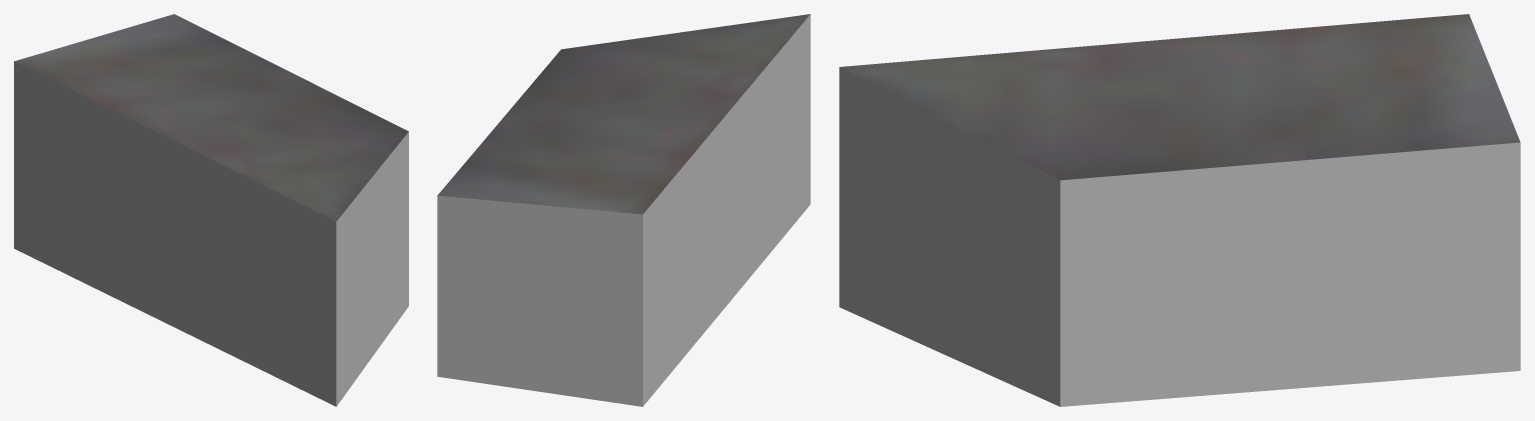
The model's file is DEBW_0010007Tx3j.gltf.
3 views of the same model, side by side, from view 1: azimuth 30°, elevation 25°; view 2: azimuth 150°, elevation 25°; view 3: azimuth 270°, elevation 25° (orthographic). The views are drawn at different scales.
Visible parts, largest first — view 1: Z_UP; view 2: Z_UP; view 3: Z_UP.
Boxes of the visible parts, x1=… form: Z_UP: x1=14, y1=14, x2=408, y2=406; Z_UP: x1=437, y1=14, x2=810, y2=406; Z_UP: x1=839, y1=14, x2=1520, y2=406.
Size of the model in its own units: 3.04 by 2.29 by 5.83.
2 materials, 1 textured.
